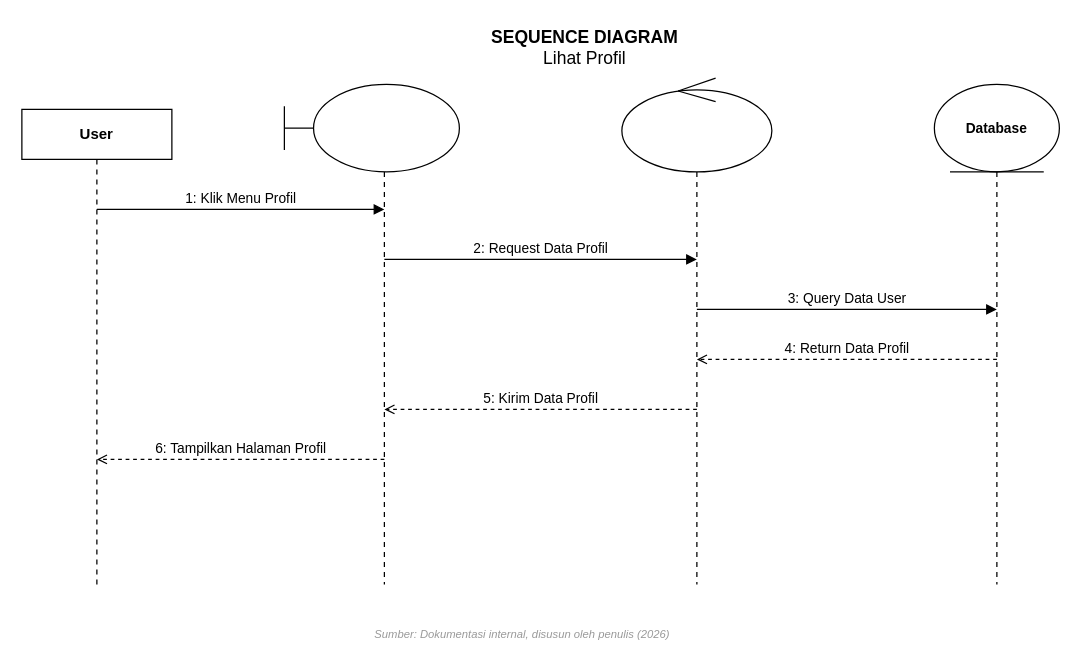
This 1081x668 diagram has some shape labels left out. Each missing label, with the box of its shape:
Halaman Profil: (283, 83, 459, 172)
UserController: (621, 77, 772, 172)
